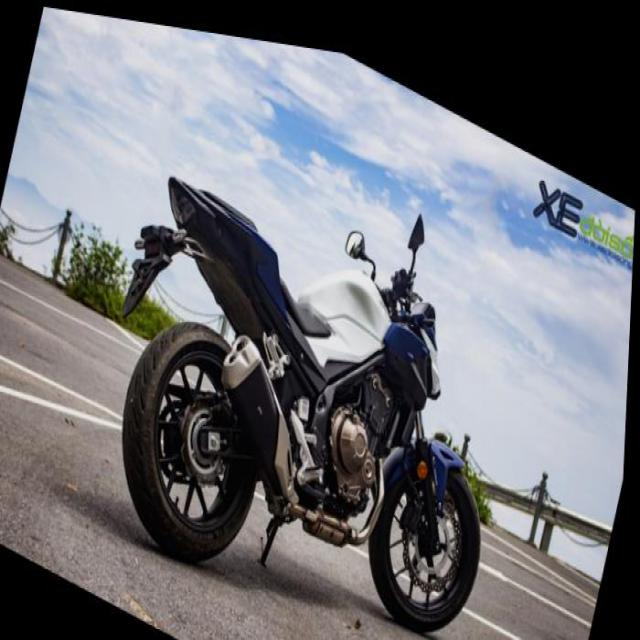CB500F: (83, 123, 538, 639)
